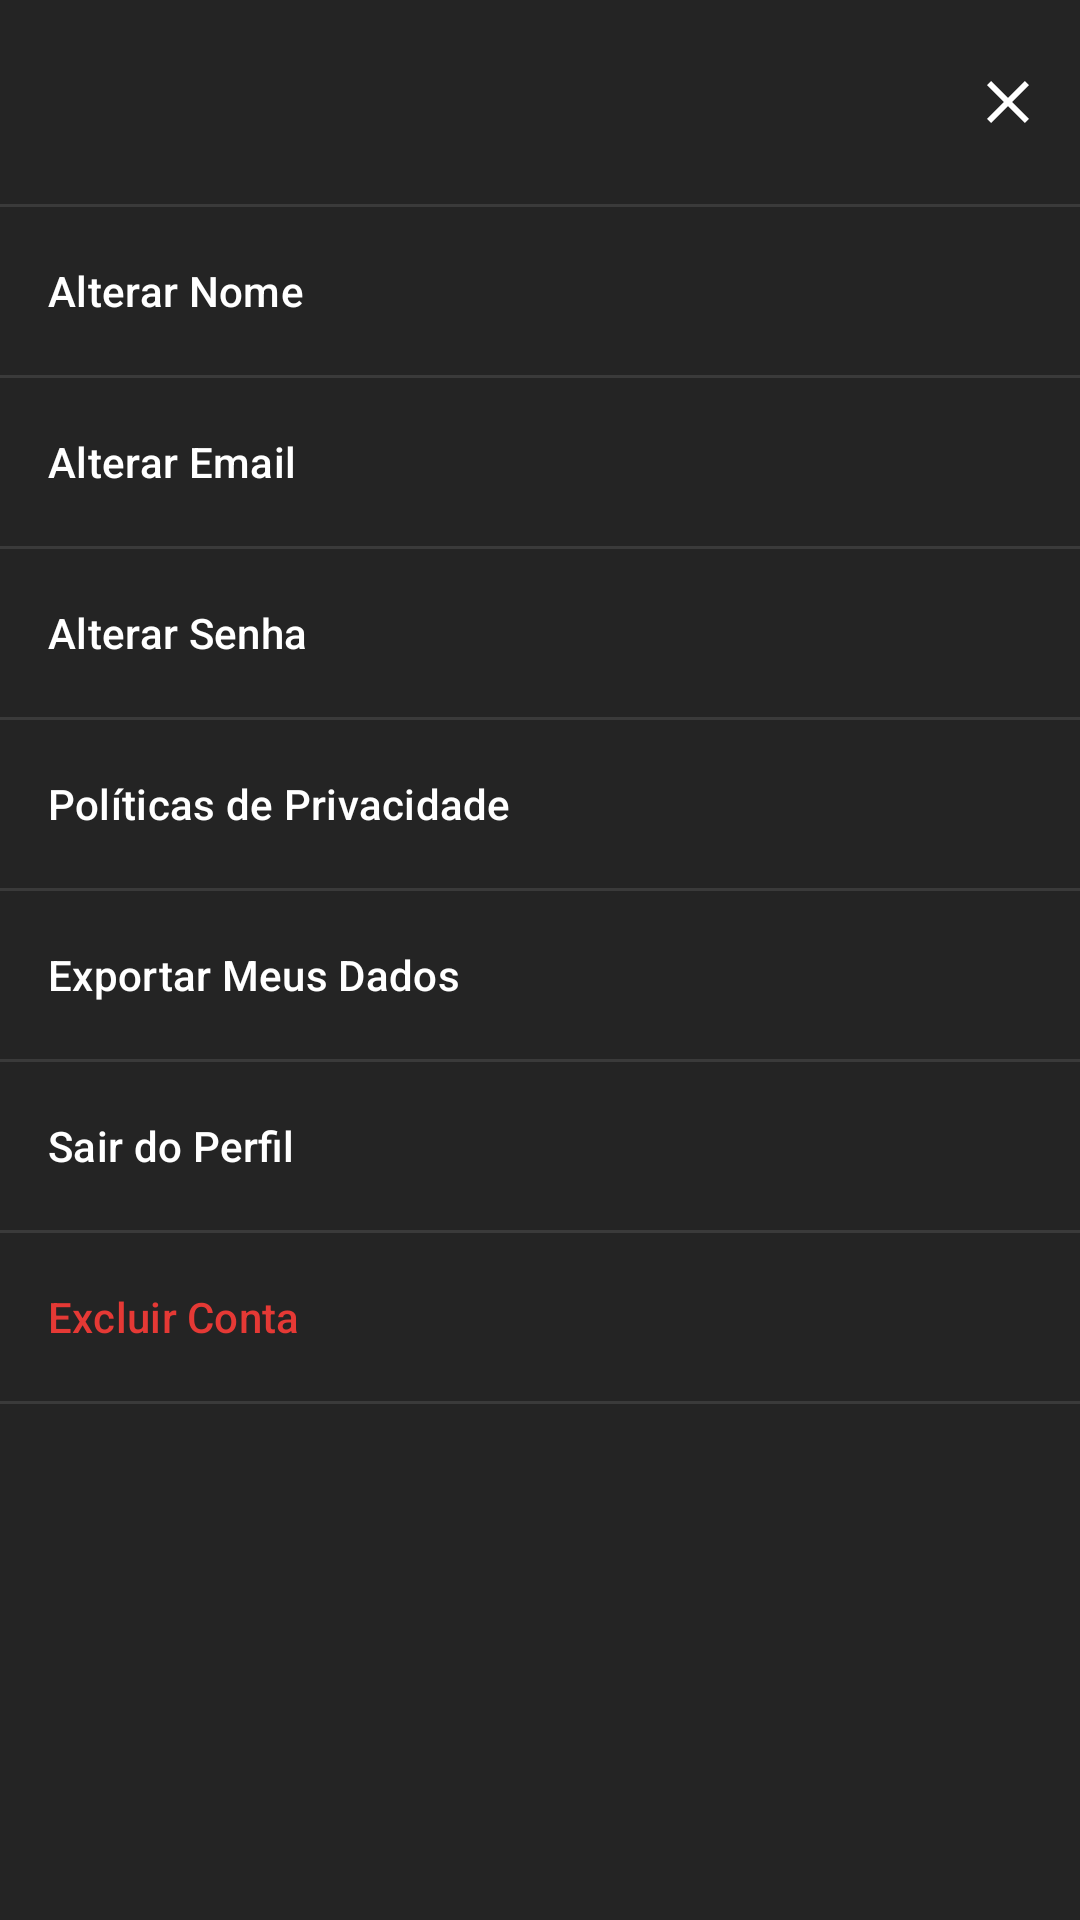

Where icons sit on this 1080*1920 app screen, as (x1, y1, x2, y2):
Fechar painel: (987, 81, 1029, 123)
